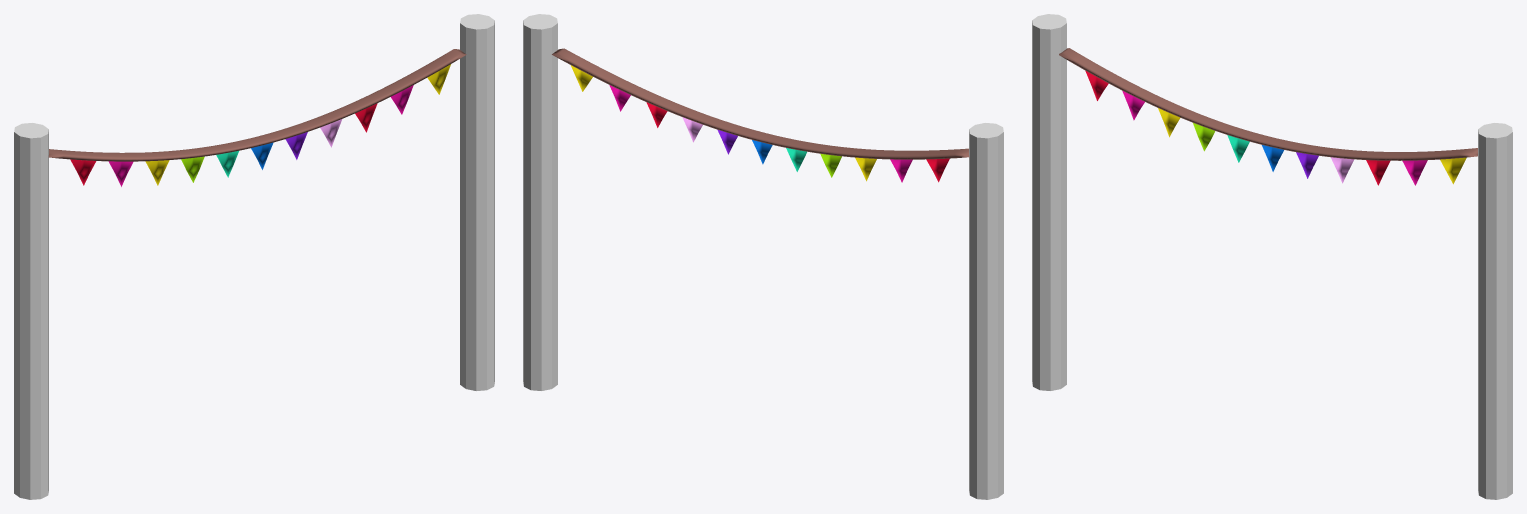
Rendered from festivo.fbx.
3 renders of one model, left to right at view 1: azimuth 30°, elevation 25°; view 2: azimuth 150°, elevation 25°; view 3: azimuth 330°, elevation 25°, orthographic.
Visible parts, largest first — view 1: Cylinder, Cylinder.001, NurbsCurve; view 2: Cylinder, Cylinder.001, NurbsCurve; view 3: Cylinder.001, Cylinder, NurbsCurve.
Boxes of the visible parts, bbox=[...] form: Cylinder: bbox=[14, 123, 48, 499]; Cylinder.001: bbox=[460, 14, 494, 390]; NurbsCurve: bbox=[48, 49, 466, 186]; Cylinder: bbox=[969, 123, 1003, 499]; Cylinder.001: bbox=[523, 14, 557, 390]; NurbsCurve: bbox=[552, 48, 969, 182]; Cylinder.001: bbox=[1478, 123, 1512, 499]; Cylinder: bbox=[1032, 14, 1066, 390]; NurbsCurve: bbox=[1059, 48, 1477, 185].
Bounding box in the file's own units: 11281 × 8209 × 779.
